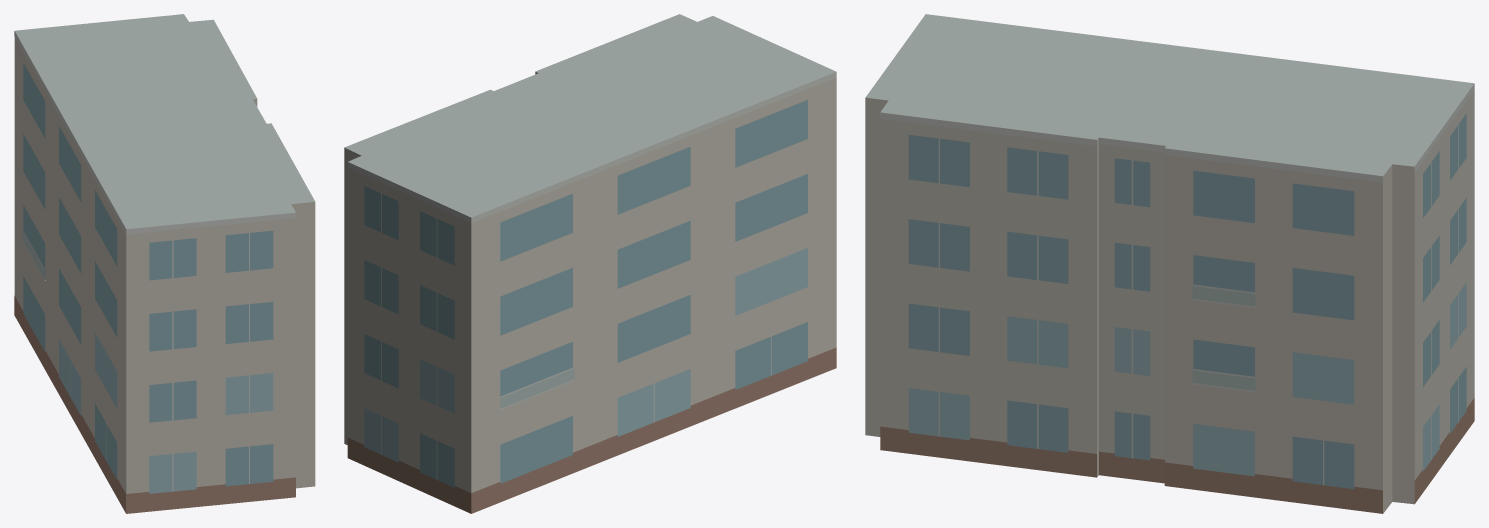
Rendered from survey-upis-32822422.glb.
The picture shows the model from 3 angles, left to right: view 1: azimuth 30°, elevation 25°; view 2: azimuth 150°, elevation 25°; view 3: azimuth 270°, elevation 25°; orthographic projection. The views are drawn at different scales.
Parts seen in each view (by area): view 1: survey-upis-32822422.tmp; view 2: survey-upis-32822422.tmp; view 3: survey-upis-32822422.tmp.
Boxes of the visible parts, bbox=[...] form: survey-upis-32822422.tmp: bbox=[14, 14, 315, 513]; survey-upis-32822422.tmp: bbox=[344, 14, 836, 513]; survey-upis-32822422.tmp: bbox=[865, 14, 1474, 513].
Size of the model in its own units: 13.2 by 12.8 by 20.94.
